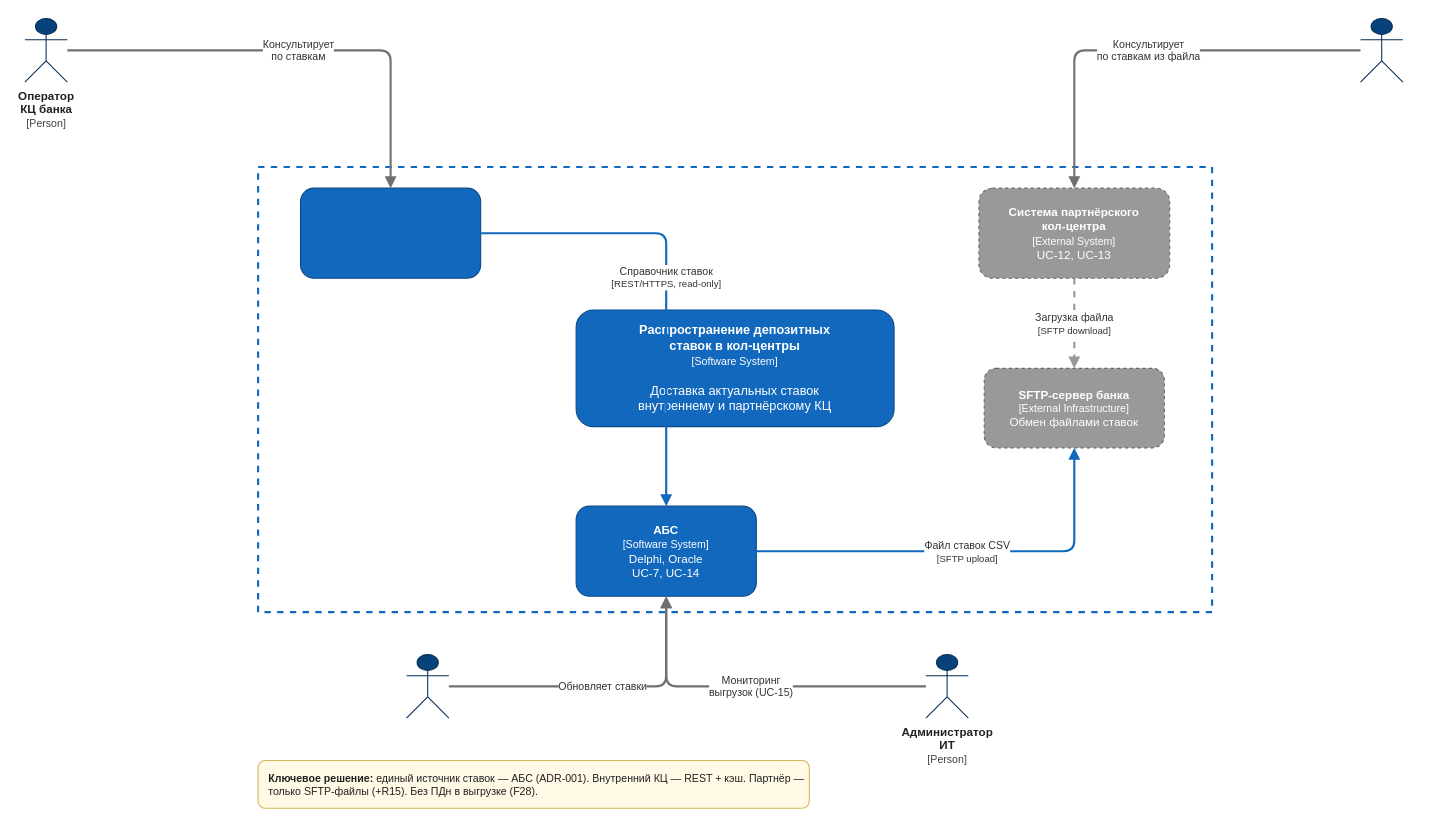
Some shapes in this 1448 by 827 pixel diagram are drawn without their labels. Each missing label, with the centre of its shape:
"Менеджер бэк-офиса депозитов [Person]" belongs at (x=427, y=685).
"Оператор партнёрского КЦ [Person]" belongs at (x=1381, y=49).
"Система кол-центра банка [Software System] Spring Boot, React UC-10, UC-11" belongs at (x=390, y=232).
